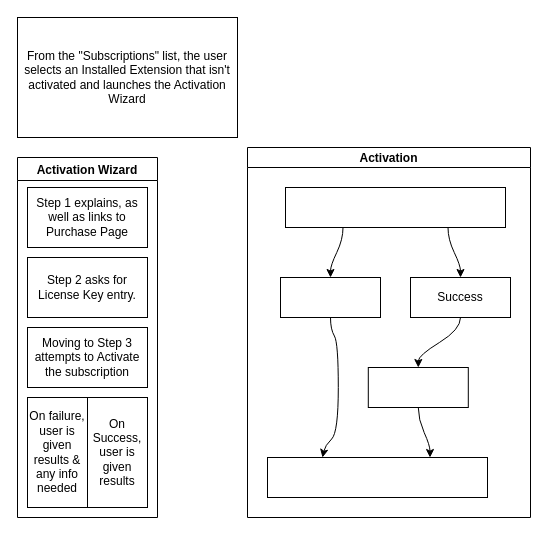
Some shapes in this 548 by 535 pixel diagram are drawn without their labels. Here are the shapes that lost their labels. From the top down, the centre of each, then its label:
point (395, 207): Reach out to Gumroad to verify License
point (330, 297): Failure, present reasons
point (417, 387): Store Record and Secure JSON
point (377, 477): Done
